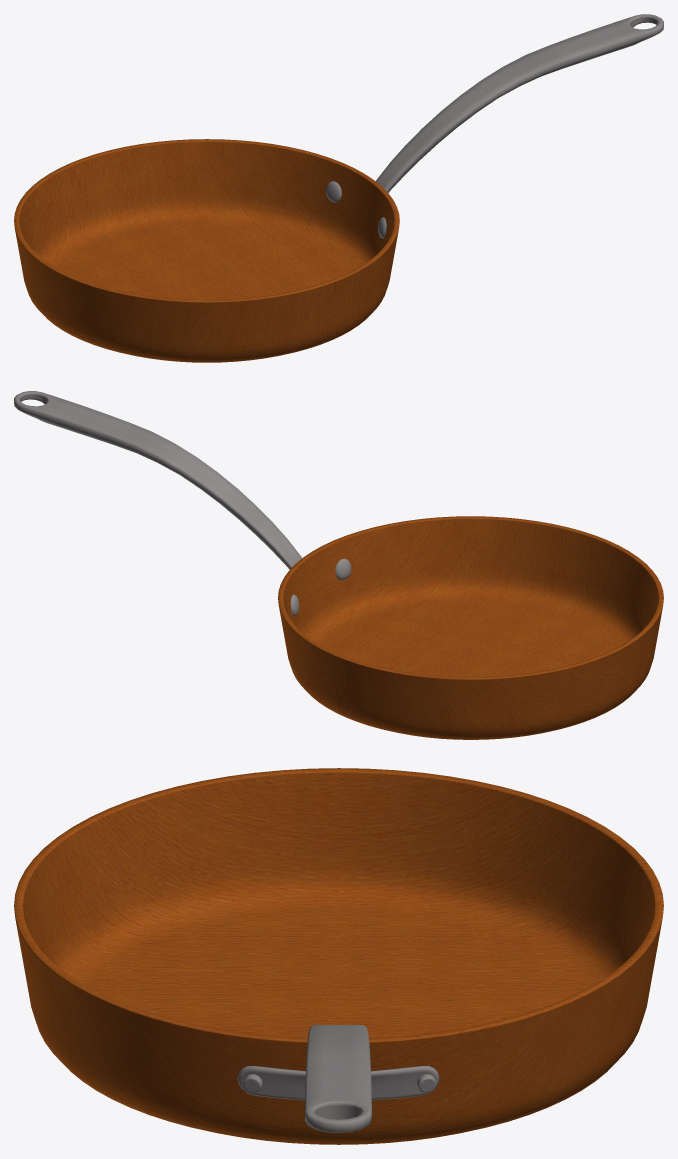
The model's file is padella32.glb.
The picture shows the model from 3 angles, top to bottom: view 1: azimuth 30°, elevation 25°; view 2: azimuth 150°, elevation 25°; view 3: azimuth 270°, elevation 25°; orthographic projection. The views are drawn at different scales.
Visible parts, largest first — view 1: contemporary_cookware_frying_pan_YBK2_FQ; view 2: contemporary_cookware_frying_pan_YBK2_FQ; view 3: contemporary_cookware_frying_pan_YBK2_FQ.
Boxes of the visible parts, x1,y1,x2,y2 form: contemporary_cookware_frying_pan_YBK2_FQ: [14, 14, 663, 362]; contemporary_cookware_frying_pan_YBK2_FQ: [14, 391, 663, 739]; contemporary_cookware_frying_pan_YBK2_FQ: [14, 768, 663, 1144].
Bounding box in the file's own units: 59.34 × 15.05 × 31.91.
2 materials, 2 textured.
